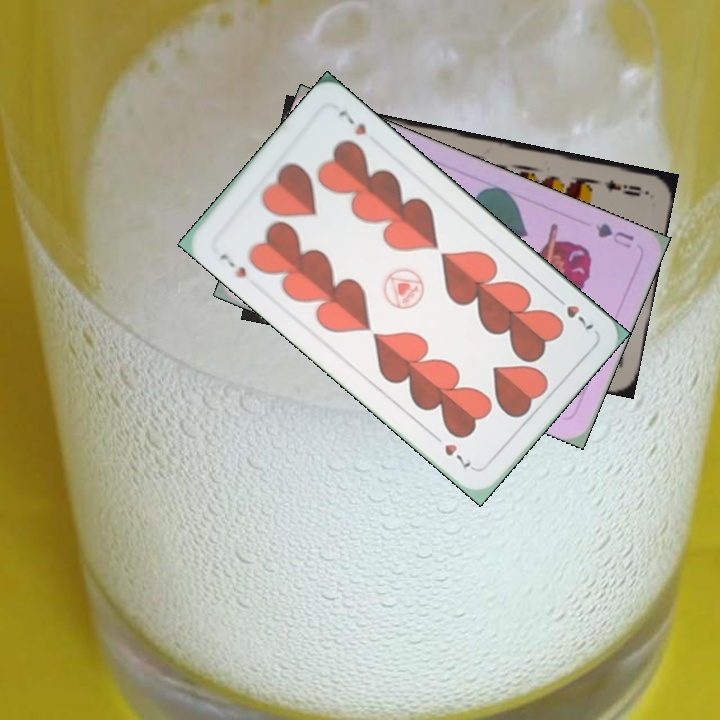E9: (600, 175, 644, 199)
GU: (591, 219, 637, 251)
H7: (549, 290, 596, 333), (215, 249, 250, 281)
